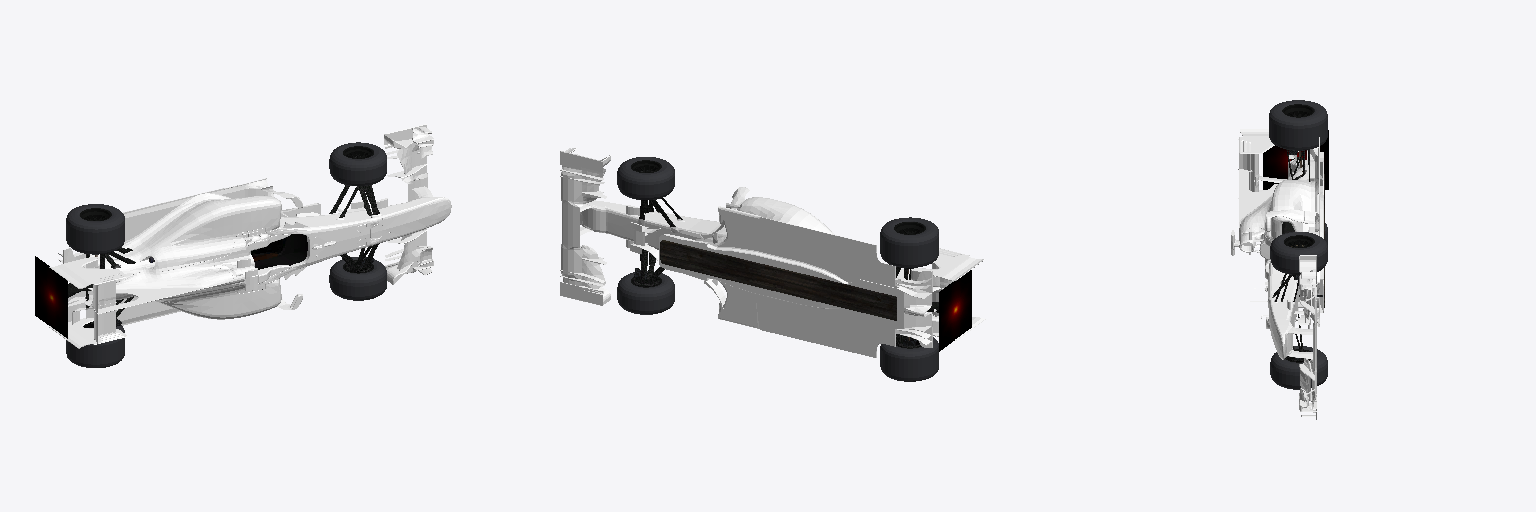
The picture shows the model from 3 angles: view 1: azimuth 30°, elevation 25°; view 2: azimuth 150°, elevation 25°; view 3: azimuth 270°, elevation 25°; orthographic projection.
Parts seen in each view (by area): view 1: object__58, object__25, object__61, object__23, object__22, object__0, object__26, object__53, object__56, object__51, object__55, object__49 (+7 smaller); view 2: object__58, object__56, object__0, object__26, object__16, object__22, object__53, object__51, object__25, object__49, object__47, object__55 (+4 smaller); view 3: object__58, object__25, object__53, object__61, object__22, object__26, object__0, object__49, object__47, object__55, object__52, object__48 (+2 smaller).
Boxes of the visible parts, x1,y1,x2,y2 form: object__58: [68, 178, 390, 325]; object__25: [98, 196, 281, 282]; object__61: [94, 260, 233, 314]; object__23: [116, 280, 281, 319]; object__22: [376, 197, 451, 242]; object__0: [384, 124, 427, 284]; object__26: [35, 256, 67, 338]; object__53: [66, 213, 124, 253]; object__56: [68, 234, 307, 297]; object__51: [66, 325, 124, 367]; object__55: [49, 257, 127, 288]; object__49: [329, 151, 386, 185]; object__58: [630, 206, 936, 357]; object__56: [660, 240, 938, 320]; object__0: [560, 151, 610, 305]; object__26: [939, 270, 971, 351]; object__16: [895, 271, 935, 347]; object__22: [580, 200, 644, 247]; object__53: [880, 226, 938, 267]; object__51: [880, 341, 938, 381]; object__25: [737, 197, 898, 278]; object__49: [617, 167, 674, 199]; object__47: [617, 281, 674, 313]; object__55: [911, 248, 984, 280]; object__58: [1248, 137, 1323, 328]; object__25: [1270, 164, 1314, 238]; object__53: [1269, 109, 1327, 150]; object__61: [1238, 169, 1277, 233]; object__22: [1269, 296, 1293, 359]; object__26: [1263, 130, 1328, 189]; object__0: [1299, 255, 1316, 419]; object__49: [1270, 241, 1327, 274]; object__47: [1270, 355, 1327, 388]; object__55: [1238, 129, 1298, 153]; object__52: [1271, 100, 1325, 150]; object__48: [1273, 232, 1325, 275].
Size of the model in its own units: 5.11 by 1.8 by 1.11.
7 materials, 6 textured.